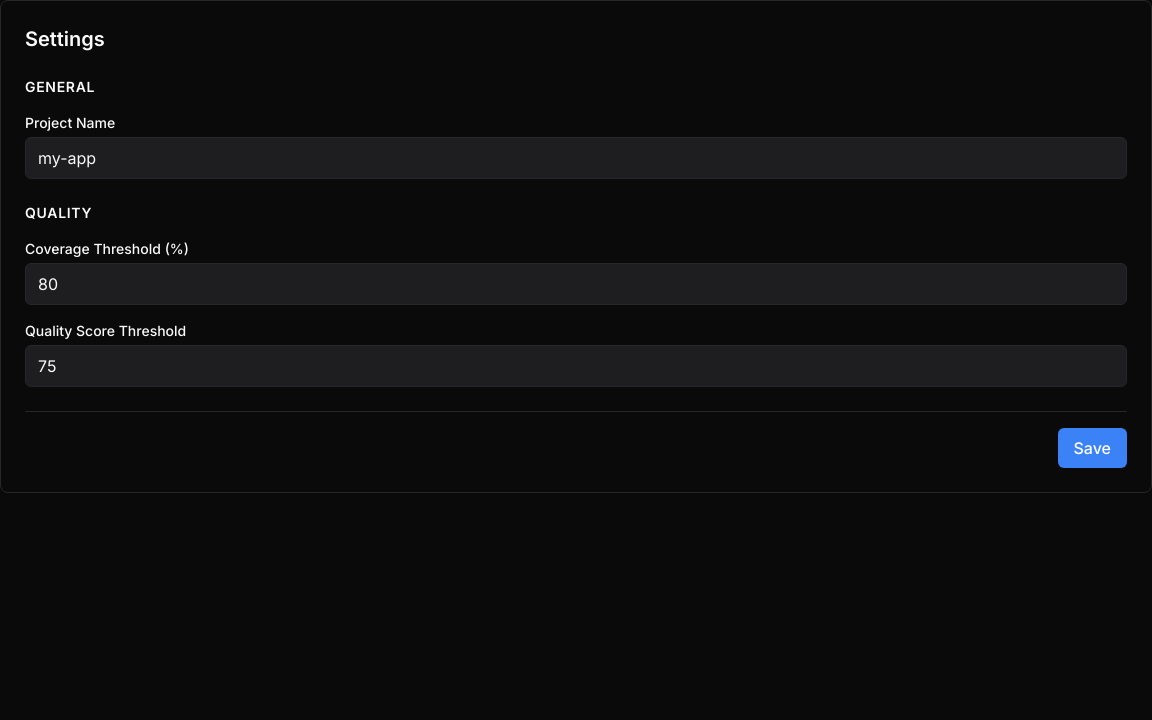
Test: SettingsPanel › shows validation errors
This screenshot has width=1152, height=720.
Replace the text in the number field labelled "Coverage Threshold (%)" with "150" at x=576, y=284, box [25,263,1127,305]
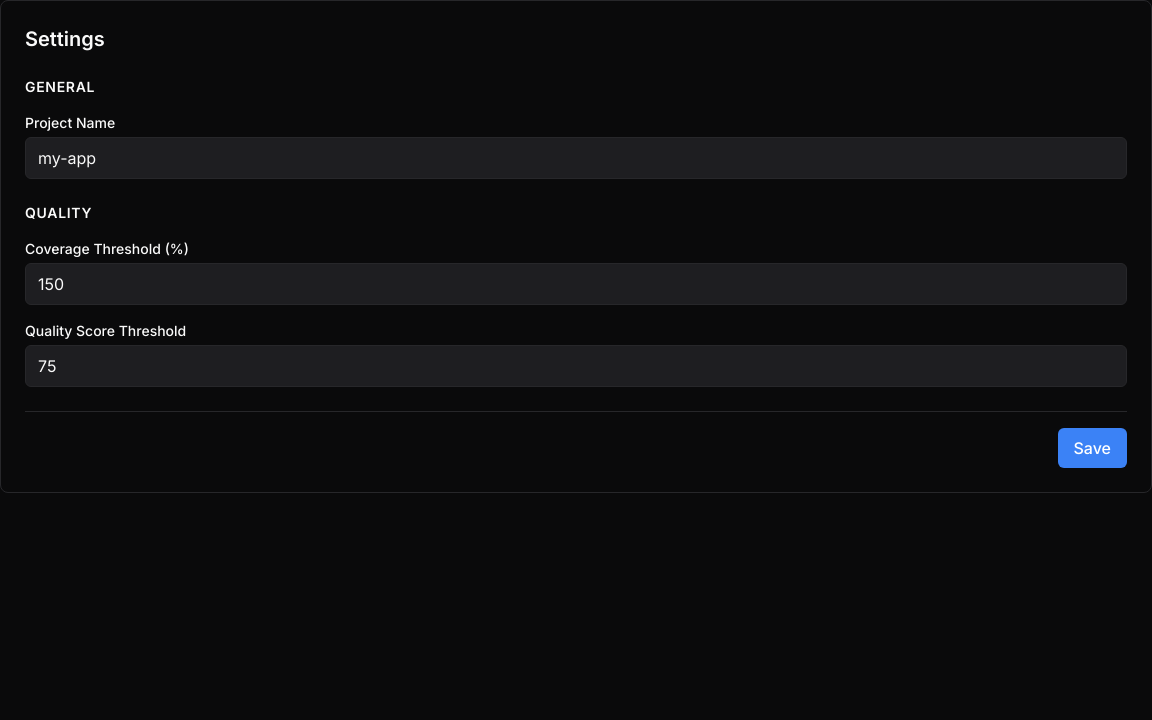
Click the button "Save" at x=1092, y=448, box [1058,428,1127,468]
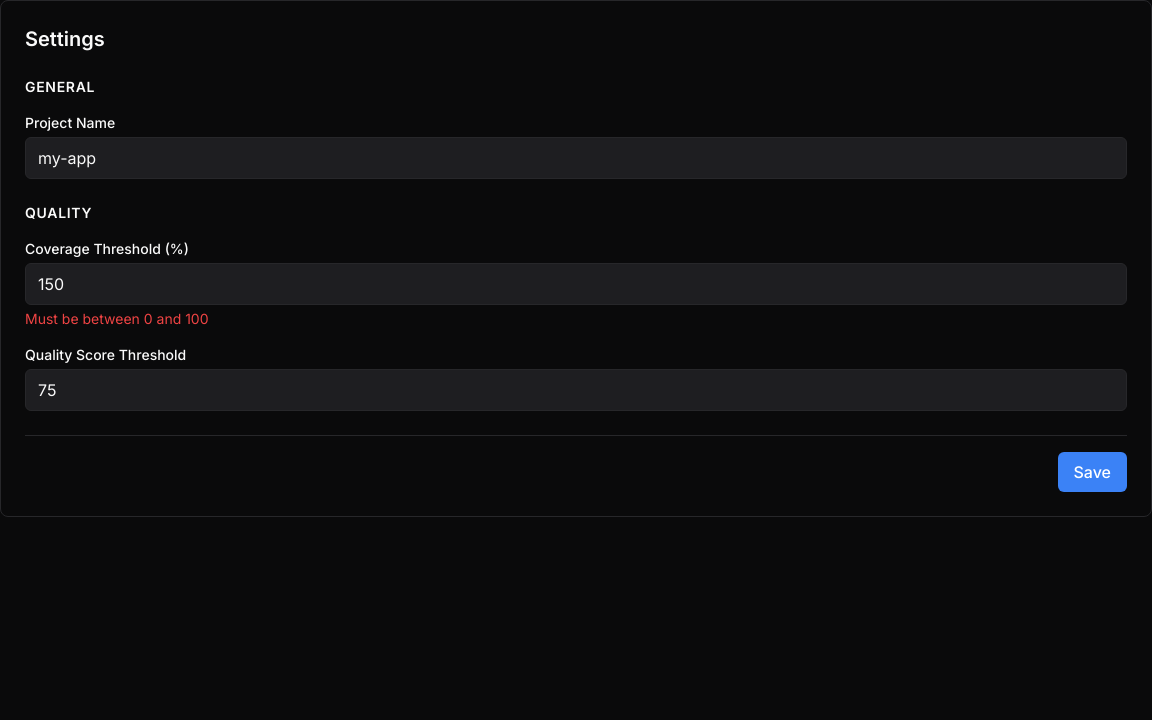
Expected: the text "Must be between 0 and 100" is shown, [25,310,208,327]
